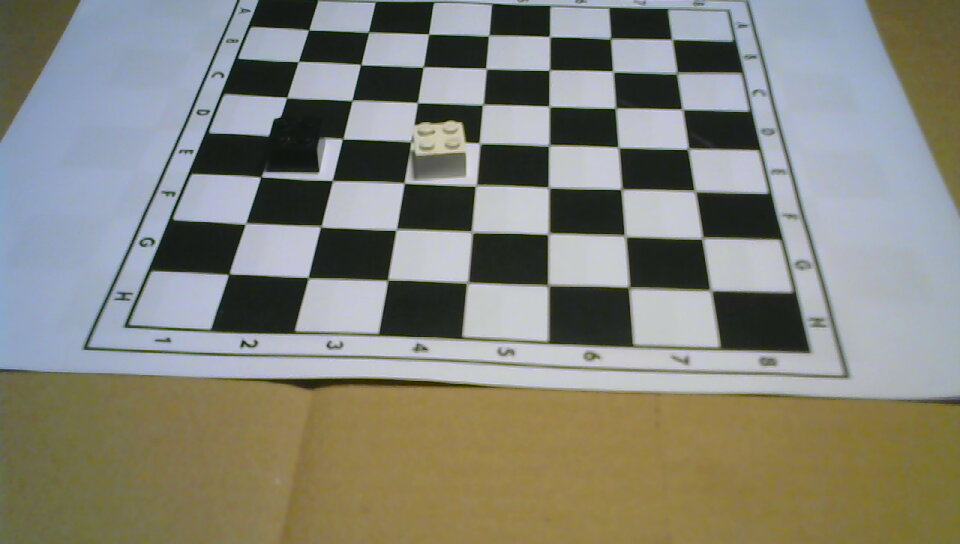bp: (268, 115, 323, 172)
wp: (410, 119, 468, 181)
